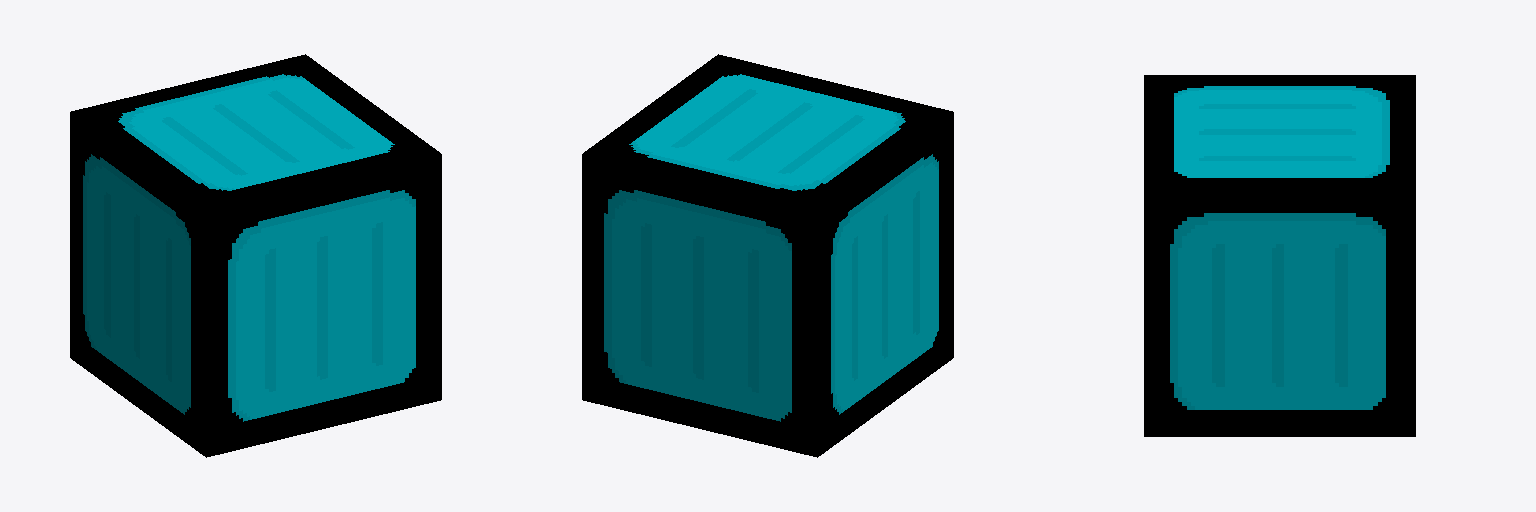
The picture shows the model from 3 angles: view 1: azimuth 30°, elevation 25°; view 2: azimuth 150°, elevation 25°; view 3: azimuth 270°, elevation 25°; orthographic projection.
Parts seen in each view (by area): view 1: dishbin; view 2: dishbin; view 3: dishbin.
Boxes of the visible parts, x1=… form: dishbin: x1=70, y1=54, x2=441, y2=457; dishbin: x1=582, y1=54, x2=953, y2=457; dishbin: x1=1144, y1=75, x2=1415, y2=436.
Size of the model in its own units: 1 by 1 by 1.
1 materials, 1 textured.